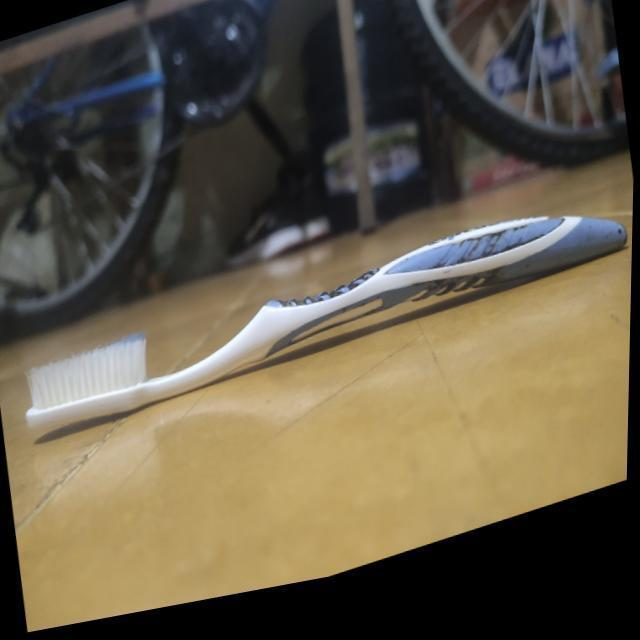toothbrush: (13, 186, 634, 469)
